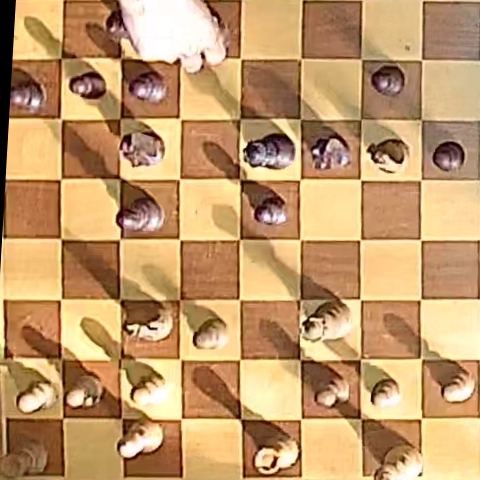black-bishop: (118, 197, 164, 232)
black-knight: (120, 131, 165, 166), (310, 136, 351, 170)
black-pawn: (129, 70, 168, 104), (371, 65, 405, 96), (10, 81, 45, 111), (70, 71, 106, 100), (432, 141, 465, 172), (255, 196, 288, 225)
black-queen: (244, 134, 294, 169)
white-bishop: (118, 421, 163, 459)
white-king: (376, 445, 423, 480)
white-knight: (123, 300, 173, 342), (367, 139, 409, 173)
white-pawn: (66, 374, 104, 410), (17, 380, 57, 414), (131, 372, 168, 406), (442, 368, 476, 403), (315, 375, 350, 408), (194, 318, 228, 350), (371, 378, 401, 408)
white-queen: (303, 300, 352, 343)
white-rook: (1, 436, 47, 478), (256, 438, 300, 475)
